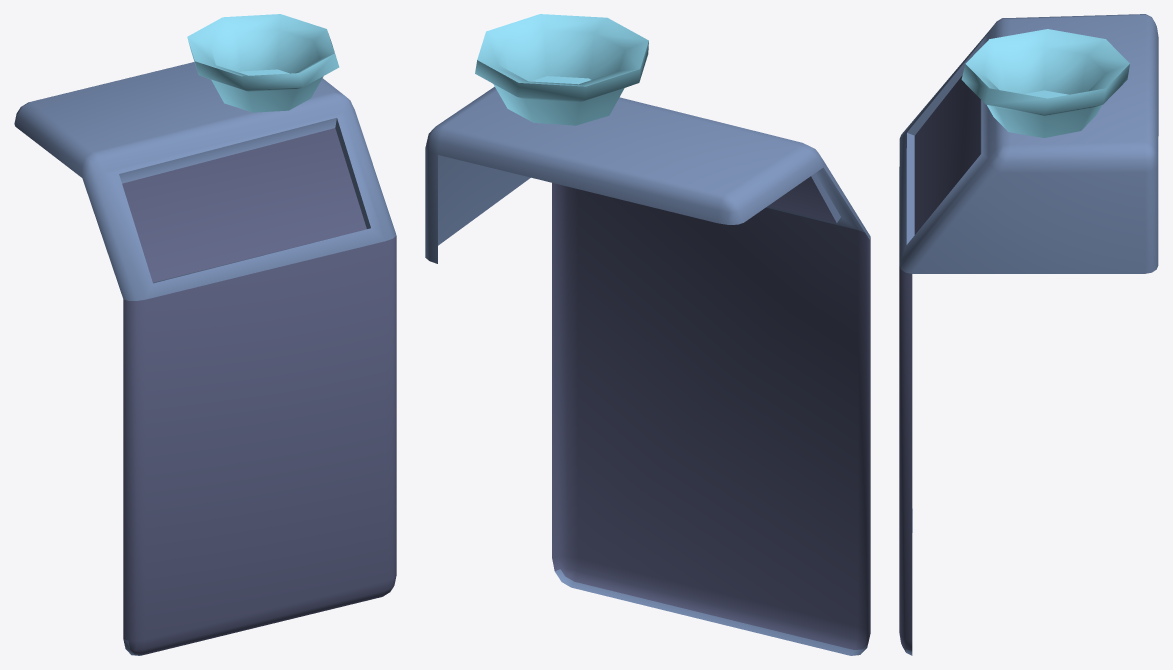
File: BoteBasura.glb
The picture shows the model from 3 angles, left to right: view 1: azimuth 30°, elevation 25°; view 2: azimuth 150°, elevation 25°; view 3: azimuth 270°, elevation 25°; orthographic projection. The views are drawn at different scales.
Parts seen in each view (by area): view 1: BoteBasura; view 2: BoteBasura; view 3: BoteBasura.
Boxes of the visible parts, x1,y1,x2,y2 form: BoteBasura: (14, 14, 396, 655); BoteBasura: (425, 14, 870, 655); BoteBasura: (899, 14, 1158, 655).
Bounding box in the file's own units: 1.61 × 2.93 × 1.23.
